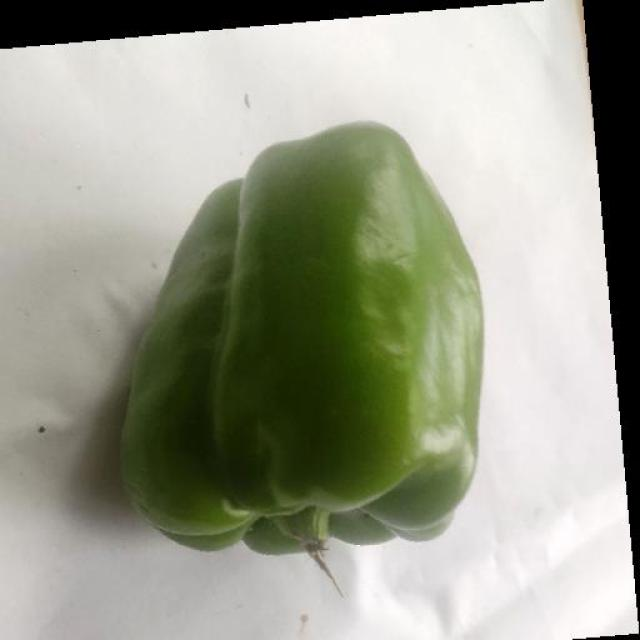Fresh_Capsicum: (103, 149, 477, 560)
